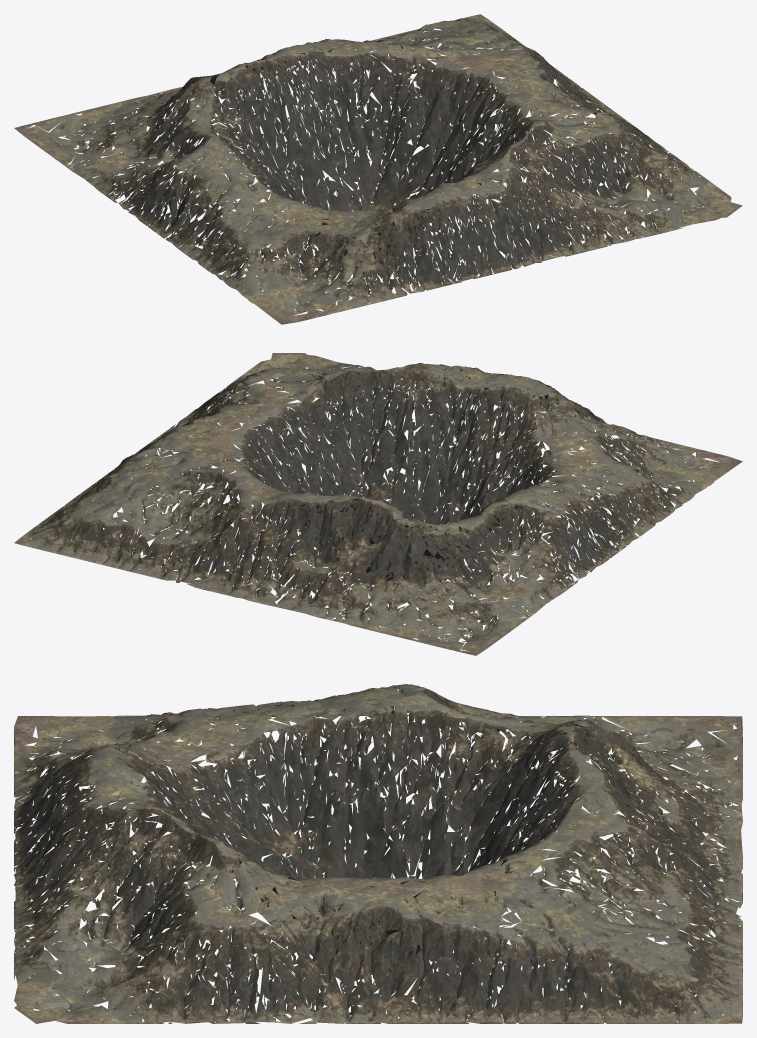
3 views of the same model, one above another, from view 1: azimuth 30°, elevation 25°; view 2: azimuth 150°, elevation 25°; view 3: azimuth 270°, elevation 25° (orthographic). The views are drawn at different scales.
Visible parts, largest first — view 1: Mesh_COLORMAP BAKE_0_4, Mesh_COLORMAP BAKE_0_5, Mesh_COLORMAP BAKE_0_6; view 2: Mesh_COLORMAP BAKE_0_4, Mesh_COLORMAP BAKE_0_5, Mesh_COLORMAP BAKE_0_6; view 3: Mesh_COLORMAP BAKE_0_4, Mesh_COLORMAP BAKE_0_5, Mesh_COLORMAP BAKE_0_6.
Part boxes in pixels (box(x1,y1,x2,y2)): Mesh_COLORMAP BAKE_0_4: box(24, 30, 742, 324); Mesh_COLORMAP BAKE_0_5: box(14, 14, 731, 321); Mesh_COLORMAP BAKE_0_6: box(64, 24, 693, 310); Mesh_COLORMAP BAKE_0_4: box(101, 353, 742, 651); Mesh_COLORMAP BAKE_0_5: box(14, 356, 727, 655); Mesh_COLORMAP BAKE_0_6: box(33, 366, 713, 641); Mesh_COLORMAP BAKE_0_4: box(14, 684, 742, 1023); Mesh_COLORMAP BAKE_0_5: box(14, 684, 742, 1023); Mesh_COLORMAP BAKE_0_6: box(14, 685, 741, 1023).
Bounding box in the file's own units: 32.89 × 10.48 × 32.89.
1 material, 1 textured.
